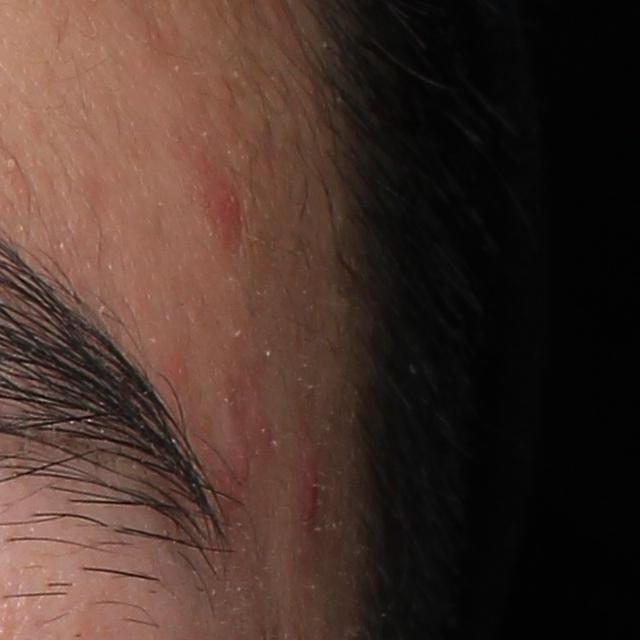papule: (288, 435, 330, 542), (202, 171, 244, 248)
